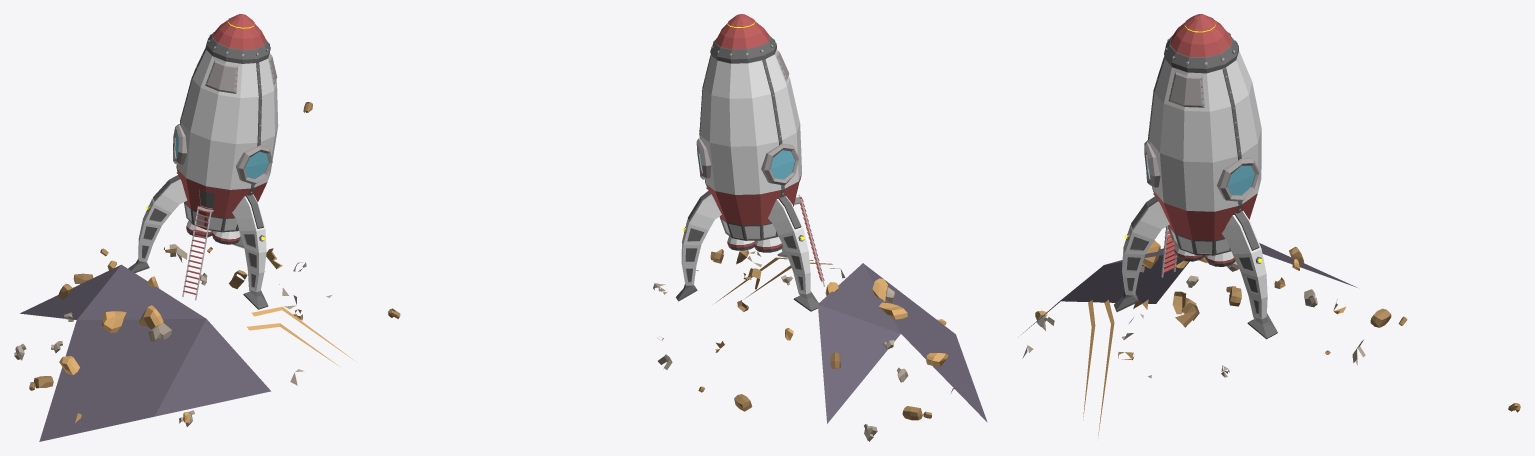
3 renders of one model, left to right at view 1: azimuth 30°, elevation 25°; view 2: azimuth 150°, elevation 25°; view 3: azimuth 270°, elevation 25°, orthographic. The views are drawn at different scales.
Visible parts, largest first — view 1: planet.004; view 2: planet.004; view 3: planet.004.
Boxes of the visible parts, left/top/right/bottom form: planet.004: left=14, top=14, right=354, bottom=441; planet.004: left=388, top=14, right=987, bottom=441; planet.004: left=1021, top=14, right=1520, bottom=437.
Bounding box in the file's own units: 15.53 × 12.41 × 13.71.
Materials: 1 (1 with a texture image).
